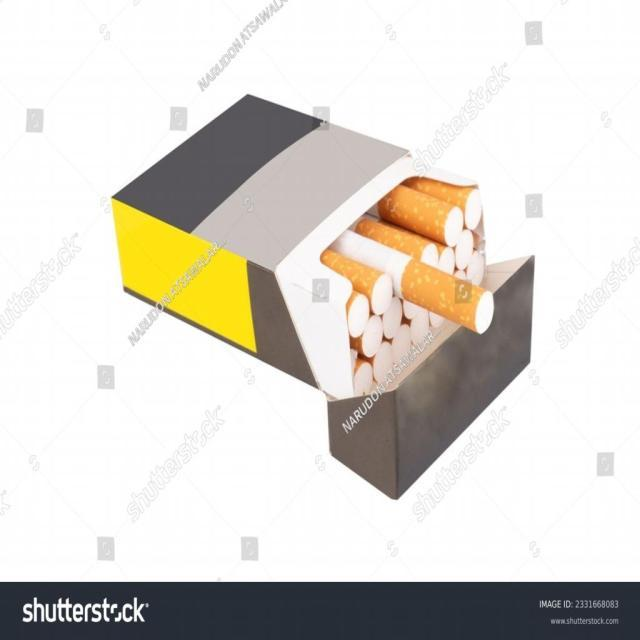smoking: (72, 10, 600, 515)
